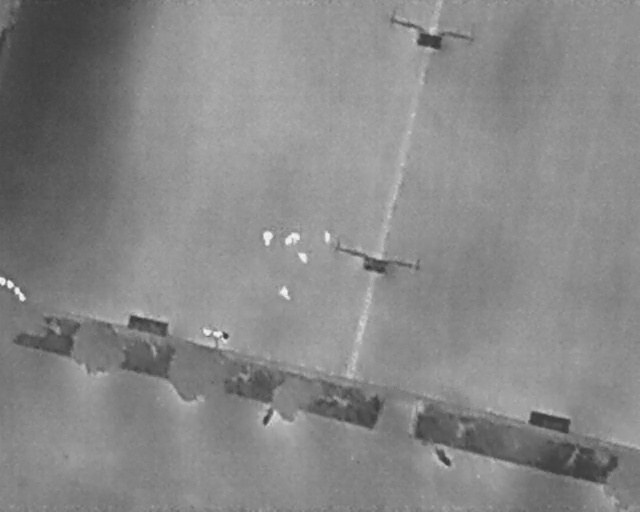Person: (279, 285, 291, 300), (298, 250, 309, 264), (263, 230, 273, 245), (292, 231, 301, 244), (324, 230, 331, 244), (284, 233, 291, 246)
